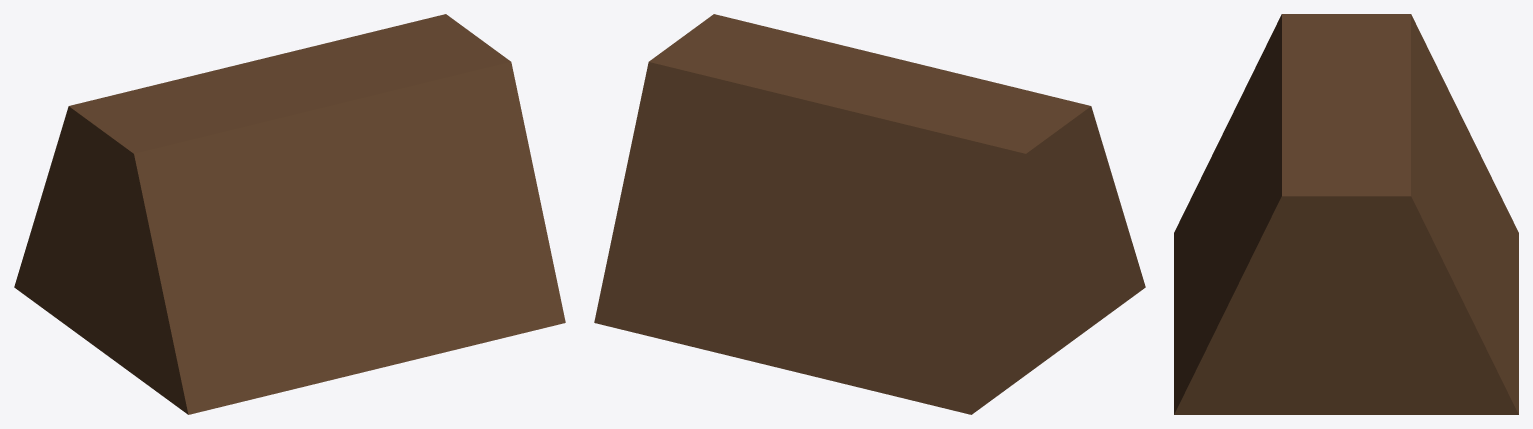
The model's file is VergeRidge.fbx.
3 renders of one model, left to right at view 1: azimuth 30°, elevation 25°; view 2: azimuth 150°, elevation 25°; view 3: azimuth 270°, elevation 25°, orthographic.
Parts seen in each view (by area): view 1: Kit_VergeRidge; view 2: Kit_VergeRidge; view 3: Kit_VergeRidge.
Boxes of the visible parts, left/top/right/bottom form: Kit_VergeRidge: left=14, top=14, right=565, bottom=414; Kit_VergeRidge: left=594, top=14, right=1145, bottom=414; Kit_VergeRidge: left=1174, top=14, right=1518, bottom=414.
Size of the model in its own units: 0.4 by 0.2241 by 0.32.
